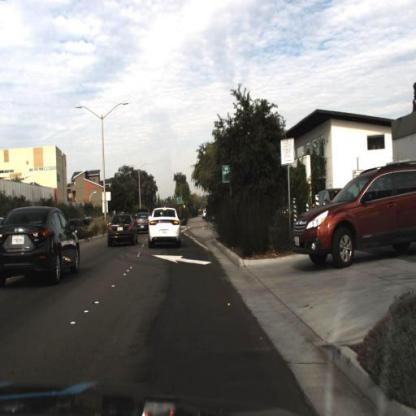car: (294, 156, 416, 273), (1, 205, 82, 290), (148, 205, 182, 251), (107, 213, 141, 250)
